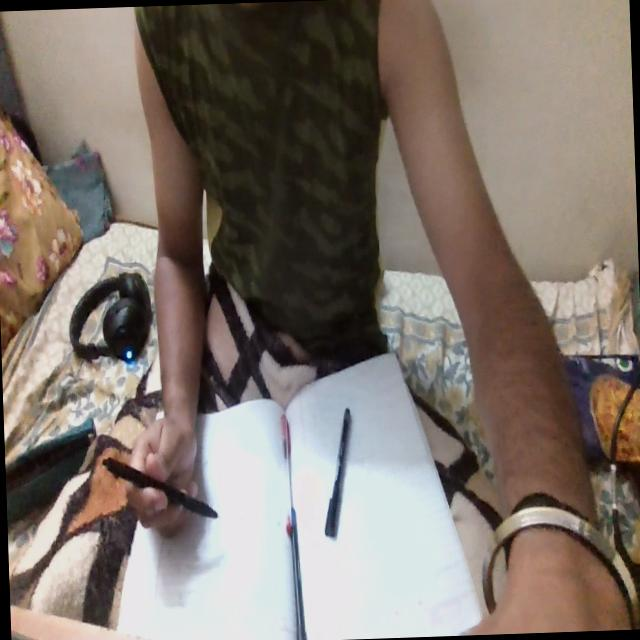pen: (103, 452, 220, 526), (312, 388, 363, 552), (273, 409, 304, 516), (286, 506, 303, 640)
